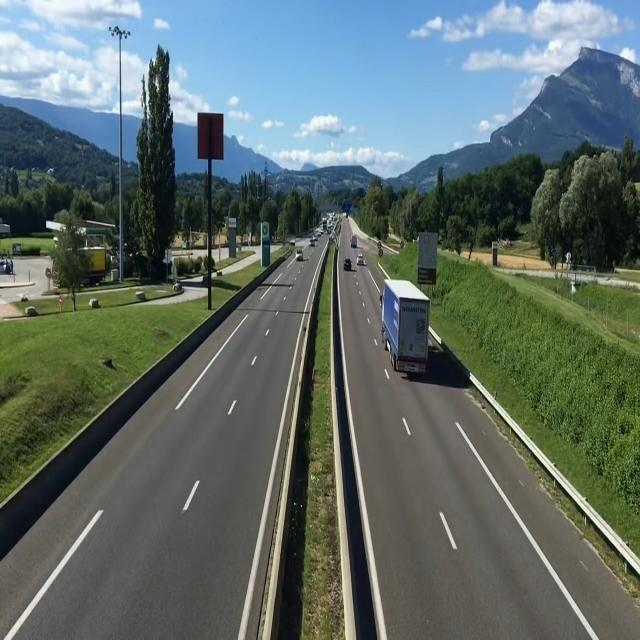Car: (343, 258, 353, 272), (355, 253, 365, 265), (295, 250, 303, 262)
Truck: (378, 278, 429, 374)
